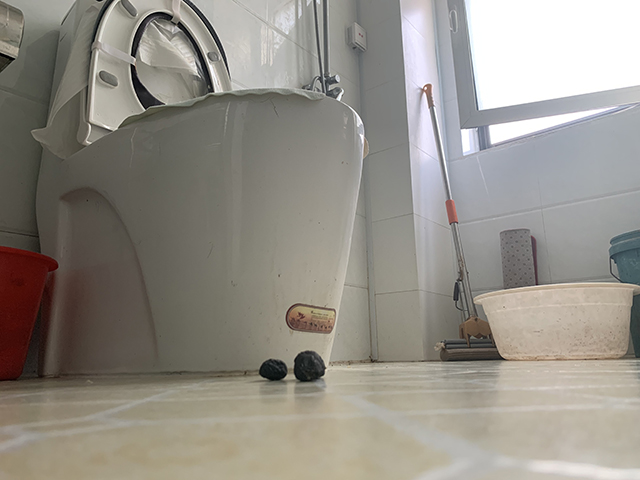closestool: (30, 1, 370, 380)
feces: (293, 349, 327, 383), (257, 357, 289, 382)
